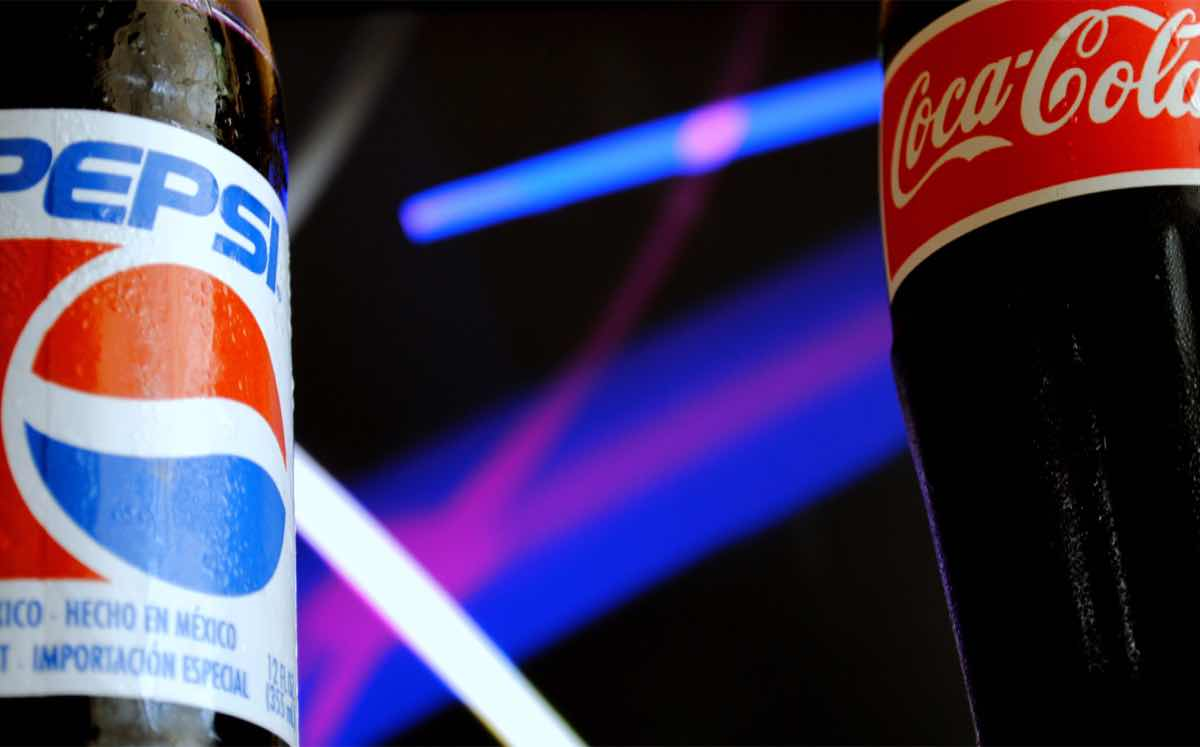pepsi: (29, 257, 287, 594)
